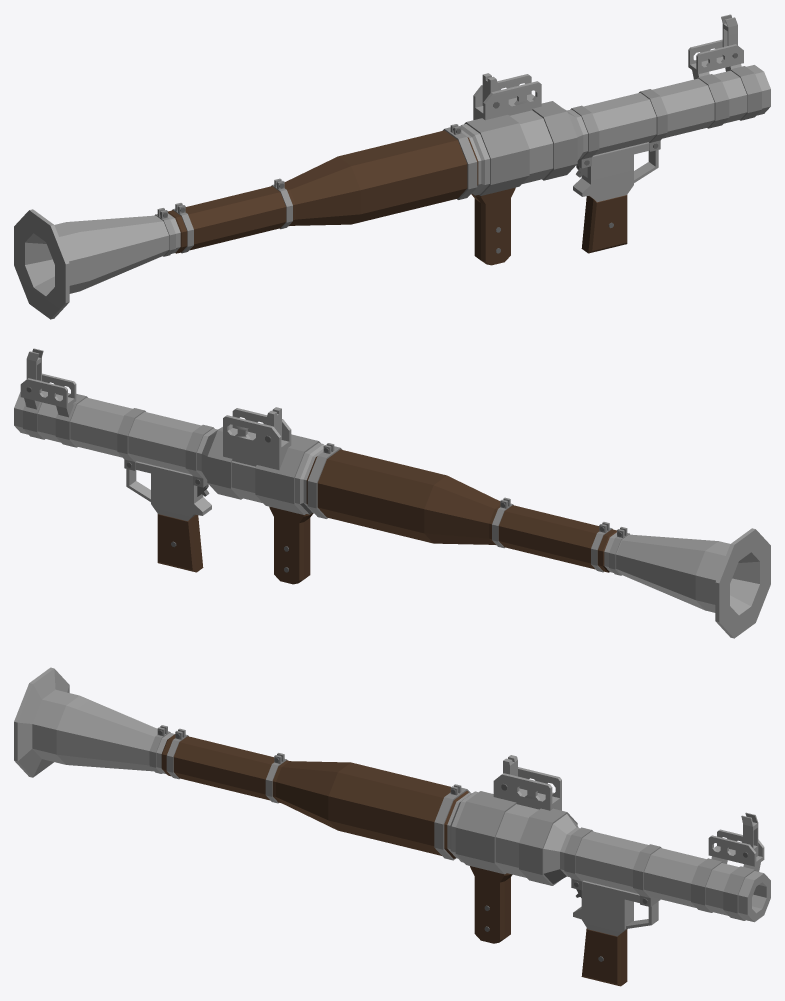
File: HeavyWeapon2_06.fbx
3 renders of one model, top to bottom at view 1: azimuth 30°, elevation 25°; view 2: azimuth 150°, elevation 25°; view 3: azimuth 330°, elevation 25°, orthographic.
Parts seen in each view (by area): view 1: HeavyWeapon2_06; view 2: HeavyWeapon2_06; view 3: HeavyWeapon2_06.
Part boxes in pixels (<box>): HeavyWeapon2_06: <box>14,14,770,319</box>; HeavyWeapon2_06: <box>14,348,770,638</box>; HeavyWeapon2_06: <box>14,667,770,986</box>.
Size of the model in its own units: 1.09 by 0.2731 by 0.1355.
